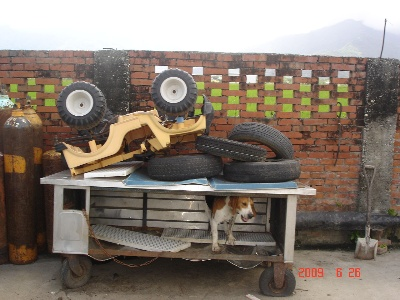tire: (227, 122, 295, 159), (193, 134, 268, 162), (222, 157, 301, 183), (147, 154, 222, 181)
